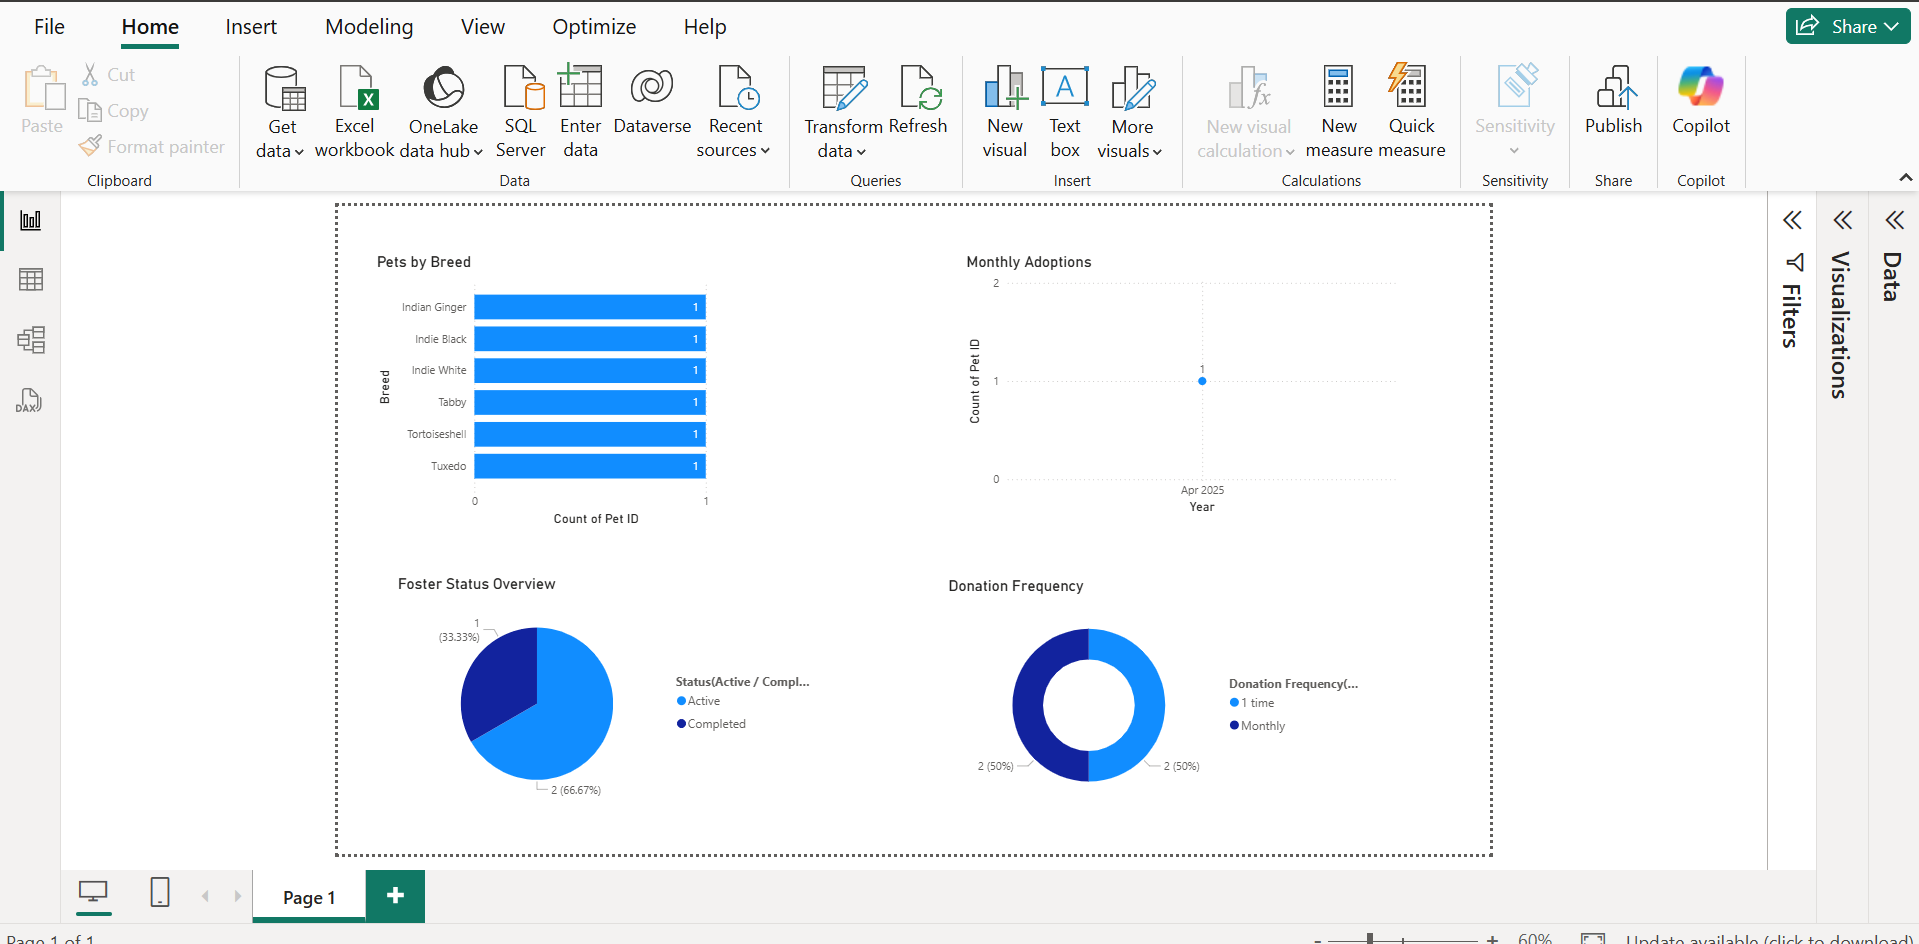

What the dashboard file says about the page in this screenshot:
{"tool":"powerbi","page":{"name":"Page 1","canvas":[1280,720],"ordinal":0},"visuals":[{"type":"clusteredBarChart","title":"Pets by Breed","fields":{"Y":["CountNonNull(Pet Data.Pet ID)"],"Category":["Pet Data.Breed"]},"box":[37.8,51,393.1,308],"z":0},{"type":"lineChart","title":"Monthly Adoptions","fields":{"Y":["CountNonNull(Adoption Data.Pet ID)"],"Category":["Adoption Data.Adoption Date.Variation.Date Hierarchy.Year","Adoption Data.Adoption Date.Variation.Date Hierarchy.Quarter","Adoption Data.Adoption Date.Variation.Date Hierarchy.Month","Adoption Data.Adoption Date.Variation.Date Hierarchy.Day"]},"box":[693.5,51,487.6,294.8],"z":1},{"type":"pieChart","title":"Foster Status Overview","fields":{"Y":["CountNonNull(Foster Data.Pet ID)"],"Category":["Foster Data.Status(Active / Completed)"]},"box":[62.4,410.1,466.8,266.5],"z":2},{"type":"donutChart","title":"Donation Frequency","fields":{"Category":["Donation Data.Donation Frequency(1 time / Recurring)"],"Y":["CountNonNull(Donation Data.Donor Name)"]},"box":[672.8,412,466.8,266.5],"z":3}]}

Visuals, with their boxes on the page's 1280x720 design canvas (x1, y1, x2, y2). These are canvas units, not pixel positions in the 1919x944 screenshot, which may show the page scaled, cropped or inside an application window:
"Pets by Breed" clusteredBarChart: left=38, top=51, right=431, bottom=359
"Monthly Adoptions" lineChart: left=694, top=51, right=1181, bottom=346
"Foster Status Overview" pieChart: left=62, top=410, right=529, bottom=677
"Donation Frequency" donutChart: left=673, top=412, right=1140, bottom=678
